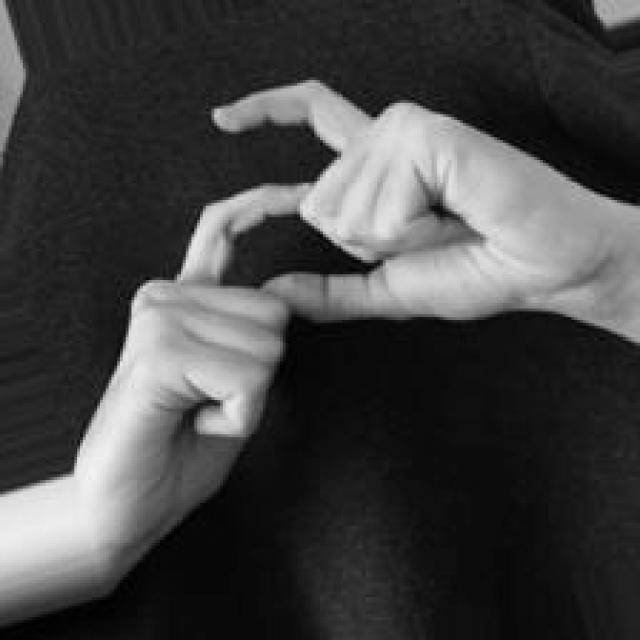G: (85, 71, 640, 598)
